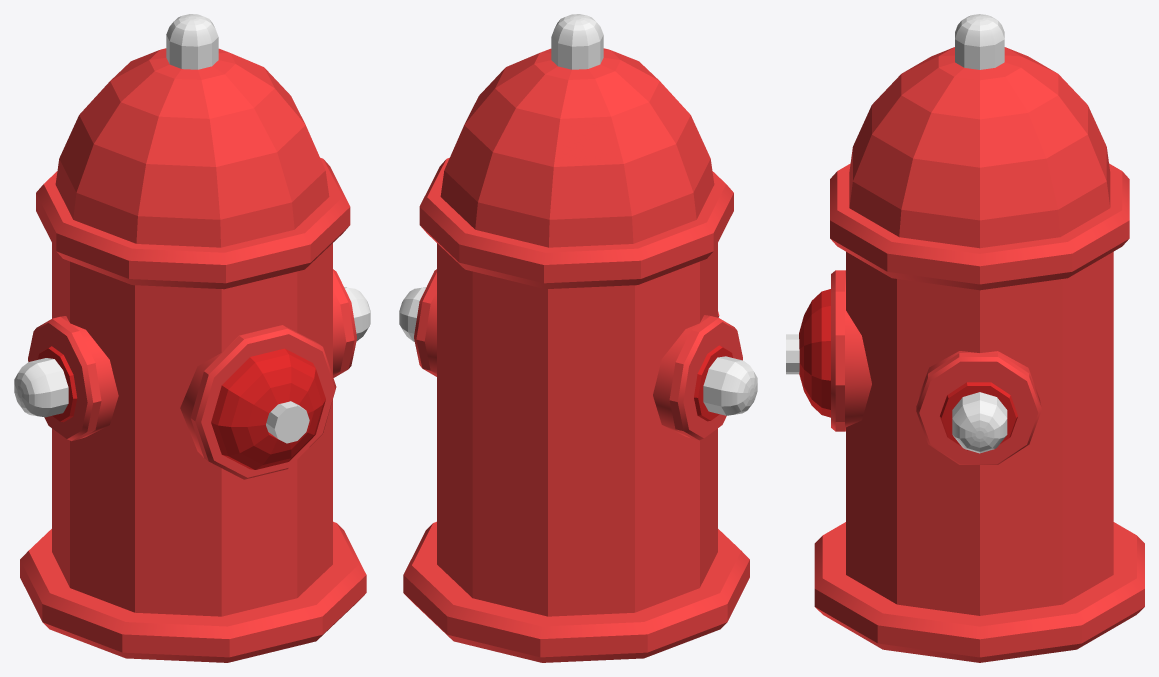
File: Hidrante.fbx
3 renders of one model, left to right at view 1: azimuth 30°, elevation 25°; view 2: azimuth 150°, elevation 25°; view 3: azimuth 270°, elevation 25°, orthographic.
Visible parts, largest first — view 1: polySurface39; view 2: polySurface39; view 3: polySurface39.
Boxes of the visible parts, x1=… form: polySurface39: x1=14, y1=14, x2=370, y2=662; polySurface39: x1=399, y1=14, x2=757, y2=662; polySurface39: x1=786, y1=14, x2=1144, y2=662.
Size of the model in its own units: 1.22 by 1.94 by 1.1.
